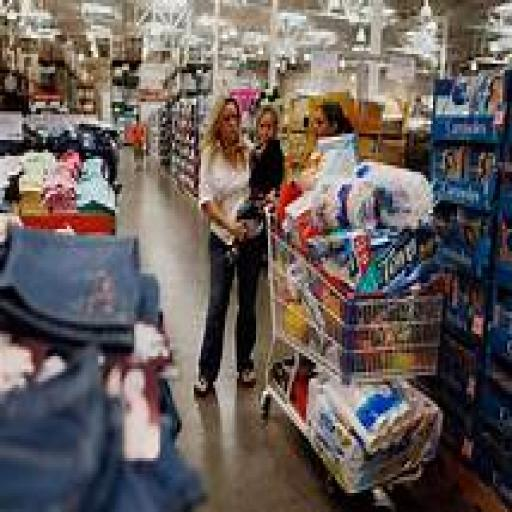shopping_cart: (263, 202, 444, 500)
